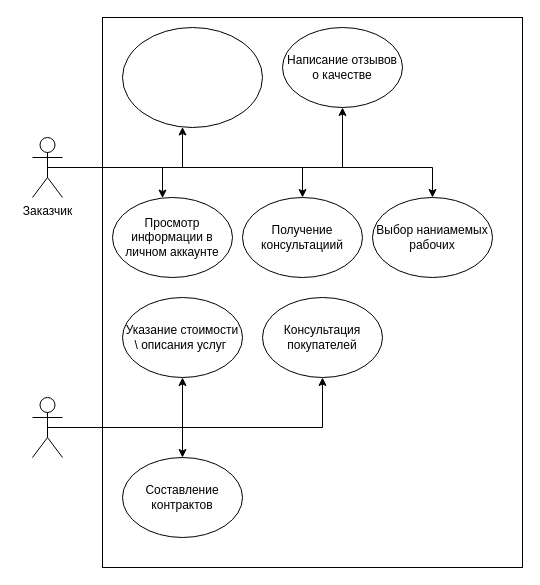
Image size: 540x585. Some labels were removed from this diagram. Here are the shapes that lost their labels. From the top down, the box of each, then its label:
(122, 26, 262, 128): Просмотр стоимости услуг \ информации о компании \ физических чтоках
(32, 396, 62, 458): Подрядчик
